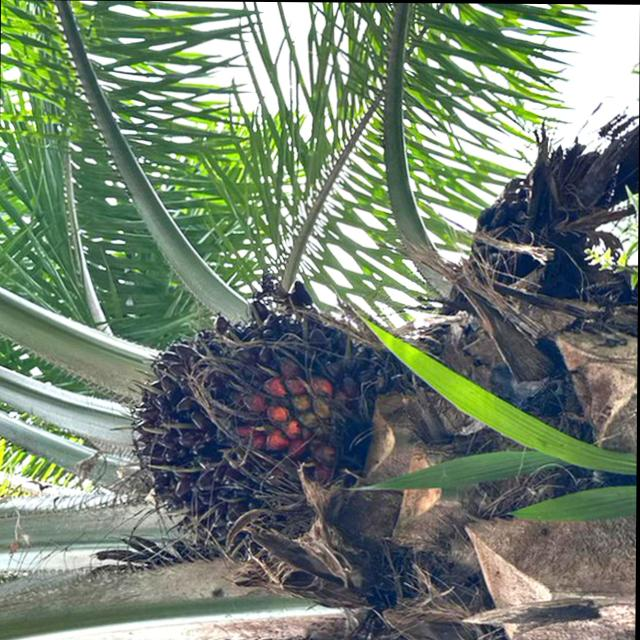ripe: (98, 285, 393, 574)
